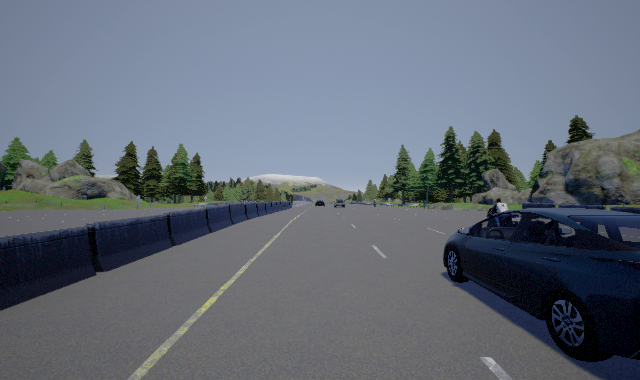motobike: (488, 198, 508, 231)
vehicle: (443, 208, 640, 362), (332, 198, 346, 209), (314, 199, 325, 208)
